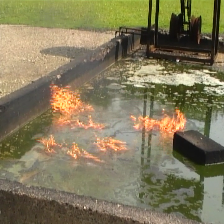fire_h: (49, 83, 107, 129), (130, 106, 186, 139), (67, 142, 102, 162)
fire_l: (95, 136, 127, 152), (37, 135, 62, 152)
